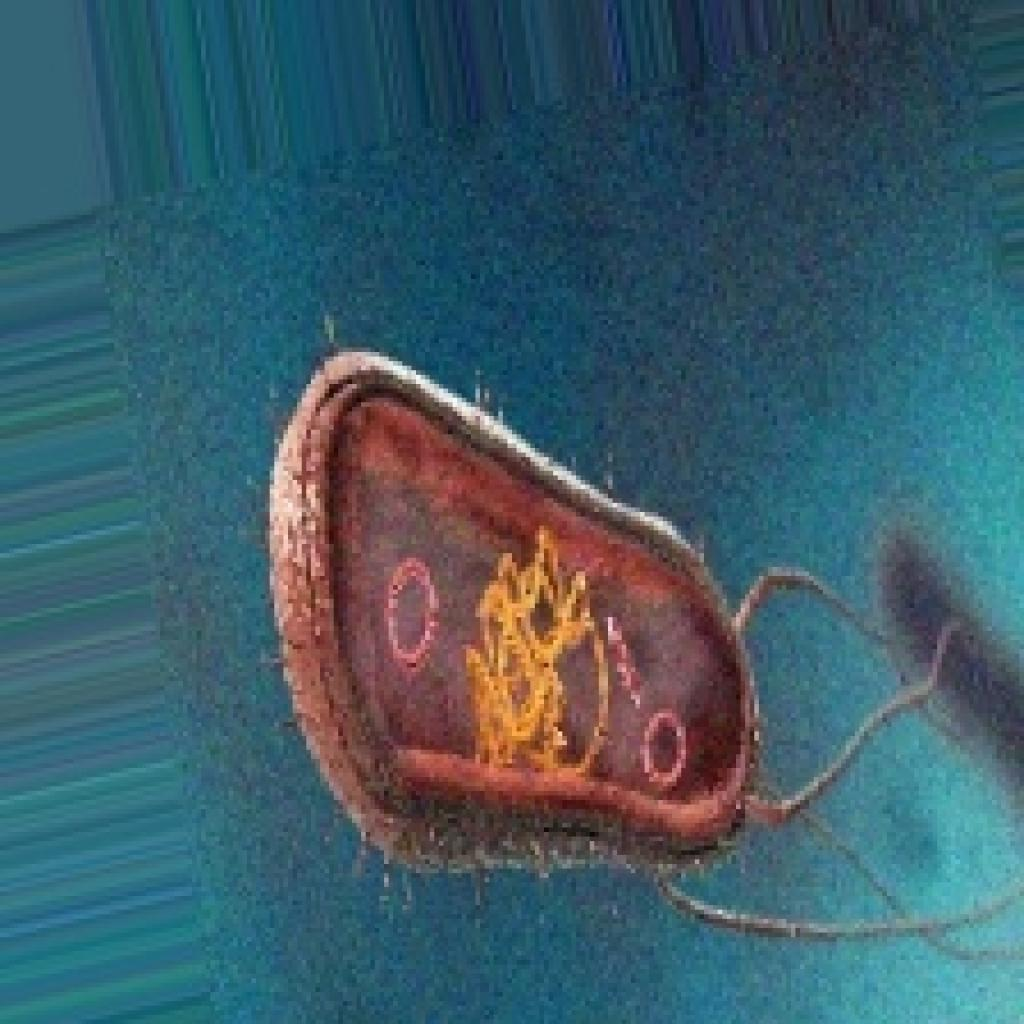Sprialbacteria: (260, 338, 1020, 978)
